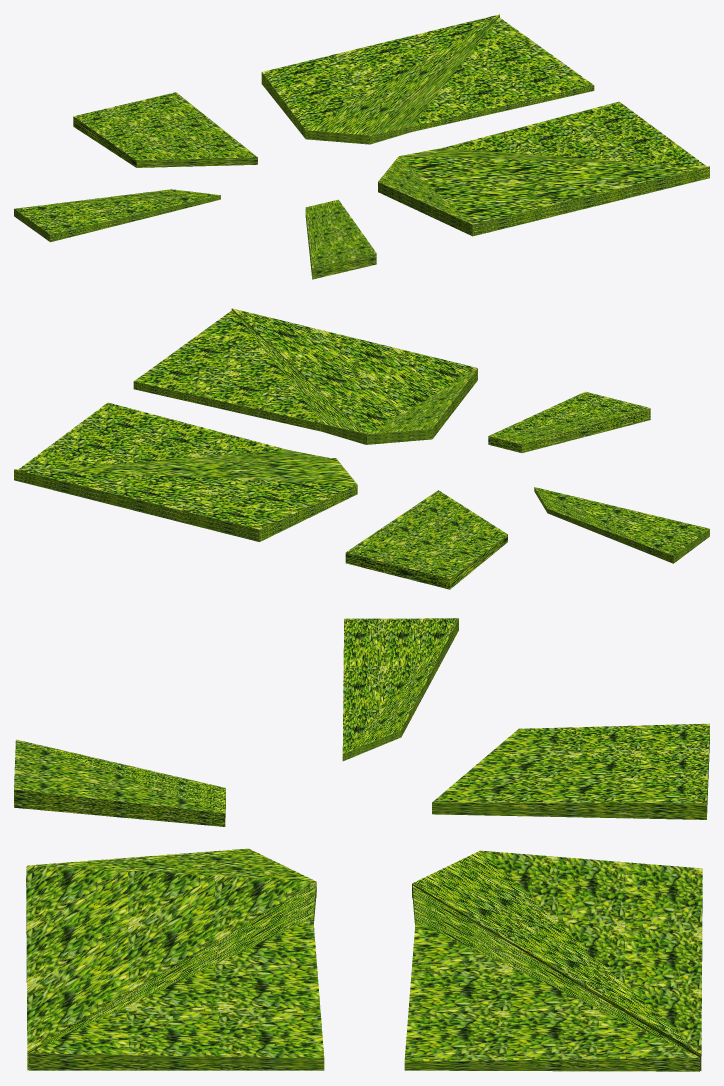
File: Arbusto.obj
3 renders of one model, top to bottom at view 1: azimuth 30°, elevation 25°; view 2: azimuth 150°, elevation 25°; view 3: azimuth 270°, elevation 25°, orthographic. The views are drawn at different scales.
Visible parts, largest first — view 1: Arbusto.002_Material.016, Arbusto.002_Material.021, Arbusto.002_Material.020, Arbusto.002_Material.018, Arbusto.002_Material.017; view 2: Arbusto.002_Material.021, Arbusto.002_Material.016, Arbusto.002_Material.020, Arbusto.002_Material.018, Arbusto.002_Material.017; view 3: Arbusto.002_Material.021, Arbusto.002_Material.016, Arbusto.002_Material.020, Arbusto.002_Material.017, Arbusto.002_Material.018.
Part boxes in pixels (x1,y1,x2,y2): Arbusto.002_Material.016: (261, 14, 594, 144); Arbusto.002_Material.021: (378, 101, 709, 236); Arbusto.002_Material.020: (73, 92, 257, 167); Arbusto.002_Material.018: (14, 189, 220, 242); Arbusto.002_Material.017: (305, 199, 376, 279); Arbusto.002_Material.021: (133, 308, 477, 444); Arbusto.002_Material.016: (14, 402, 357, 541); Arbusto.002_Material.020: (345, 490, 507, 589); Arbusto.002_Material.018: (534, 487, 709, 563); Arbusto.002_Material.017: (488, 391, 650, 452); Arbusto.002_Material.021: (26, 848, 324, 1070); Arbusto.002_Material.016: (404, 850, 702, 1071); Arbusto.002_Material.020: (432, 723, 709, 819); Arbusto.002_Material.017: (14, 739, 225, 826); Arbusto.002_Material.018: (342, 618, 458, 761).
Bounding box in the file's own units: 188 × 4.44 × 126.
5 materials, 5 textured.
